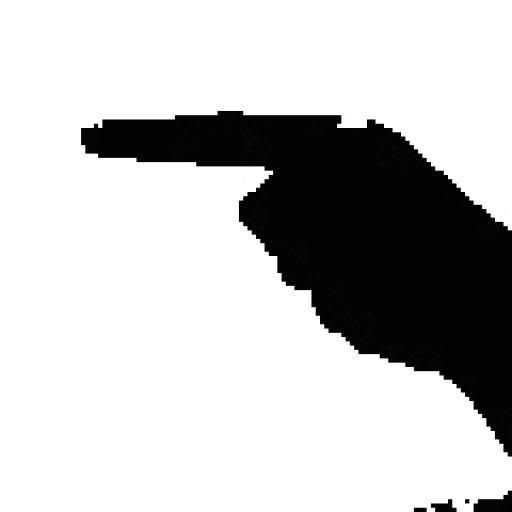index_right: (85, 107, 512, 341)
